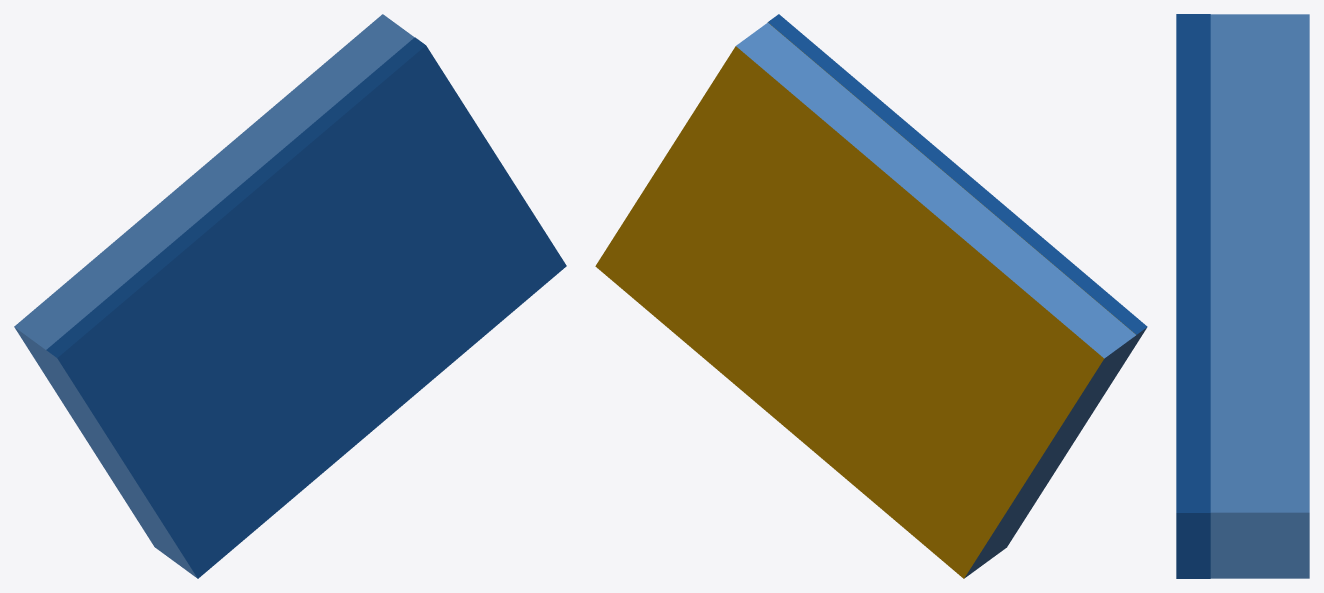
Rendered from sponge.obj.
The picture shows the model from 3 angles, left to right: view 1: azimuth 30°, elevation 25°; view 2: azimuth 150°, elevation 25°; view 3: azimuth 270°, elevation 25°; orthographic projection. The views are drawn at different scales.
Parts seen in each view (by area): view 1: mesh6, mesh0, mesh8, mesh4; view 2: mesh3, mesh0, mesh8, mesh4; view 3: mesh1, mesh9, mesh2, mesh7.
Part boxes in pixels (left/top/right/bottom): mesh6: left=57, top=45, right=566, bottom=578; mesh0: left=14, top=14, right=414, bottom=349; mesh8: left=46, top=37, right=425, bottom=357; mesh4: left=14, top=327, right=197, bottom=578; mesh3: left=595, top=46, right=1104, bottom=578; mesh0: left=736, top=22, right=1135, bottom=358; mesh8: left=768, top=14, right=1147, bottom=334; mesh4: left=964, top=327, right=1146, bottom=578; mesh1: left=1210, top=14, right=1309, bottom=512; mesh9: left=1176, top=14, right=1210, bottom=512; mesh2: left=1210, top=512, right=1309, bottom=578; mesh7: left=1176, top=513, right=1210, bottom=578.
Size of the model in its own units: 0.0057 by 0.00511 by 0.000838.
